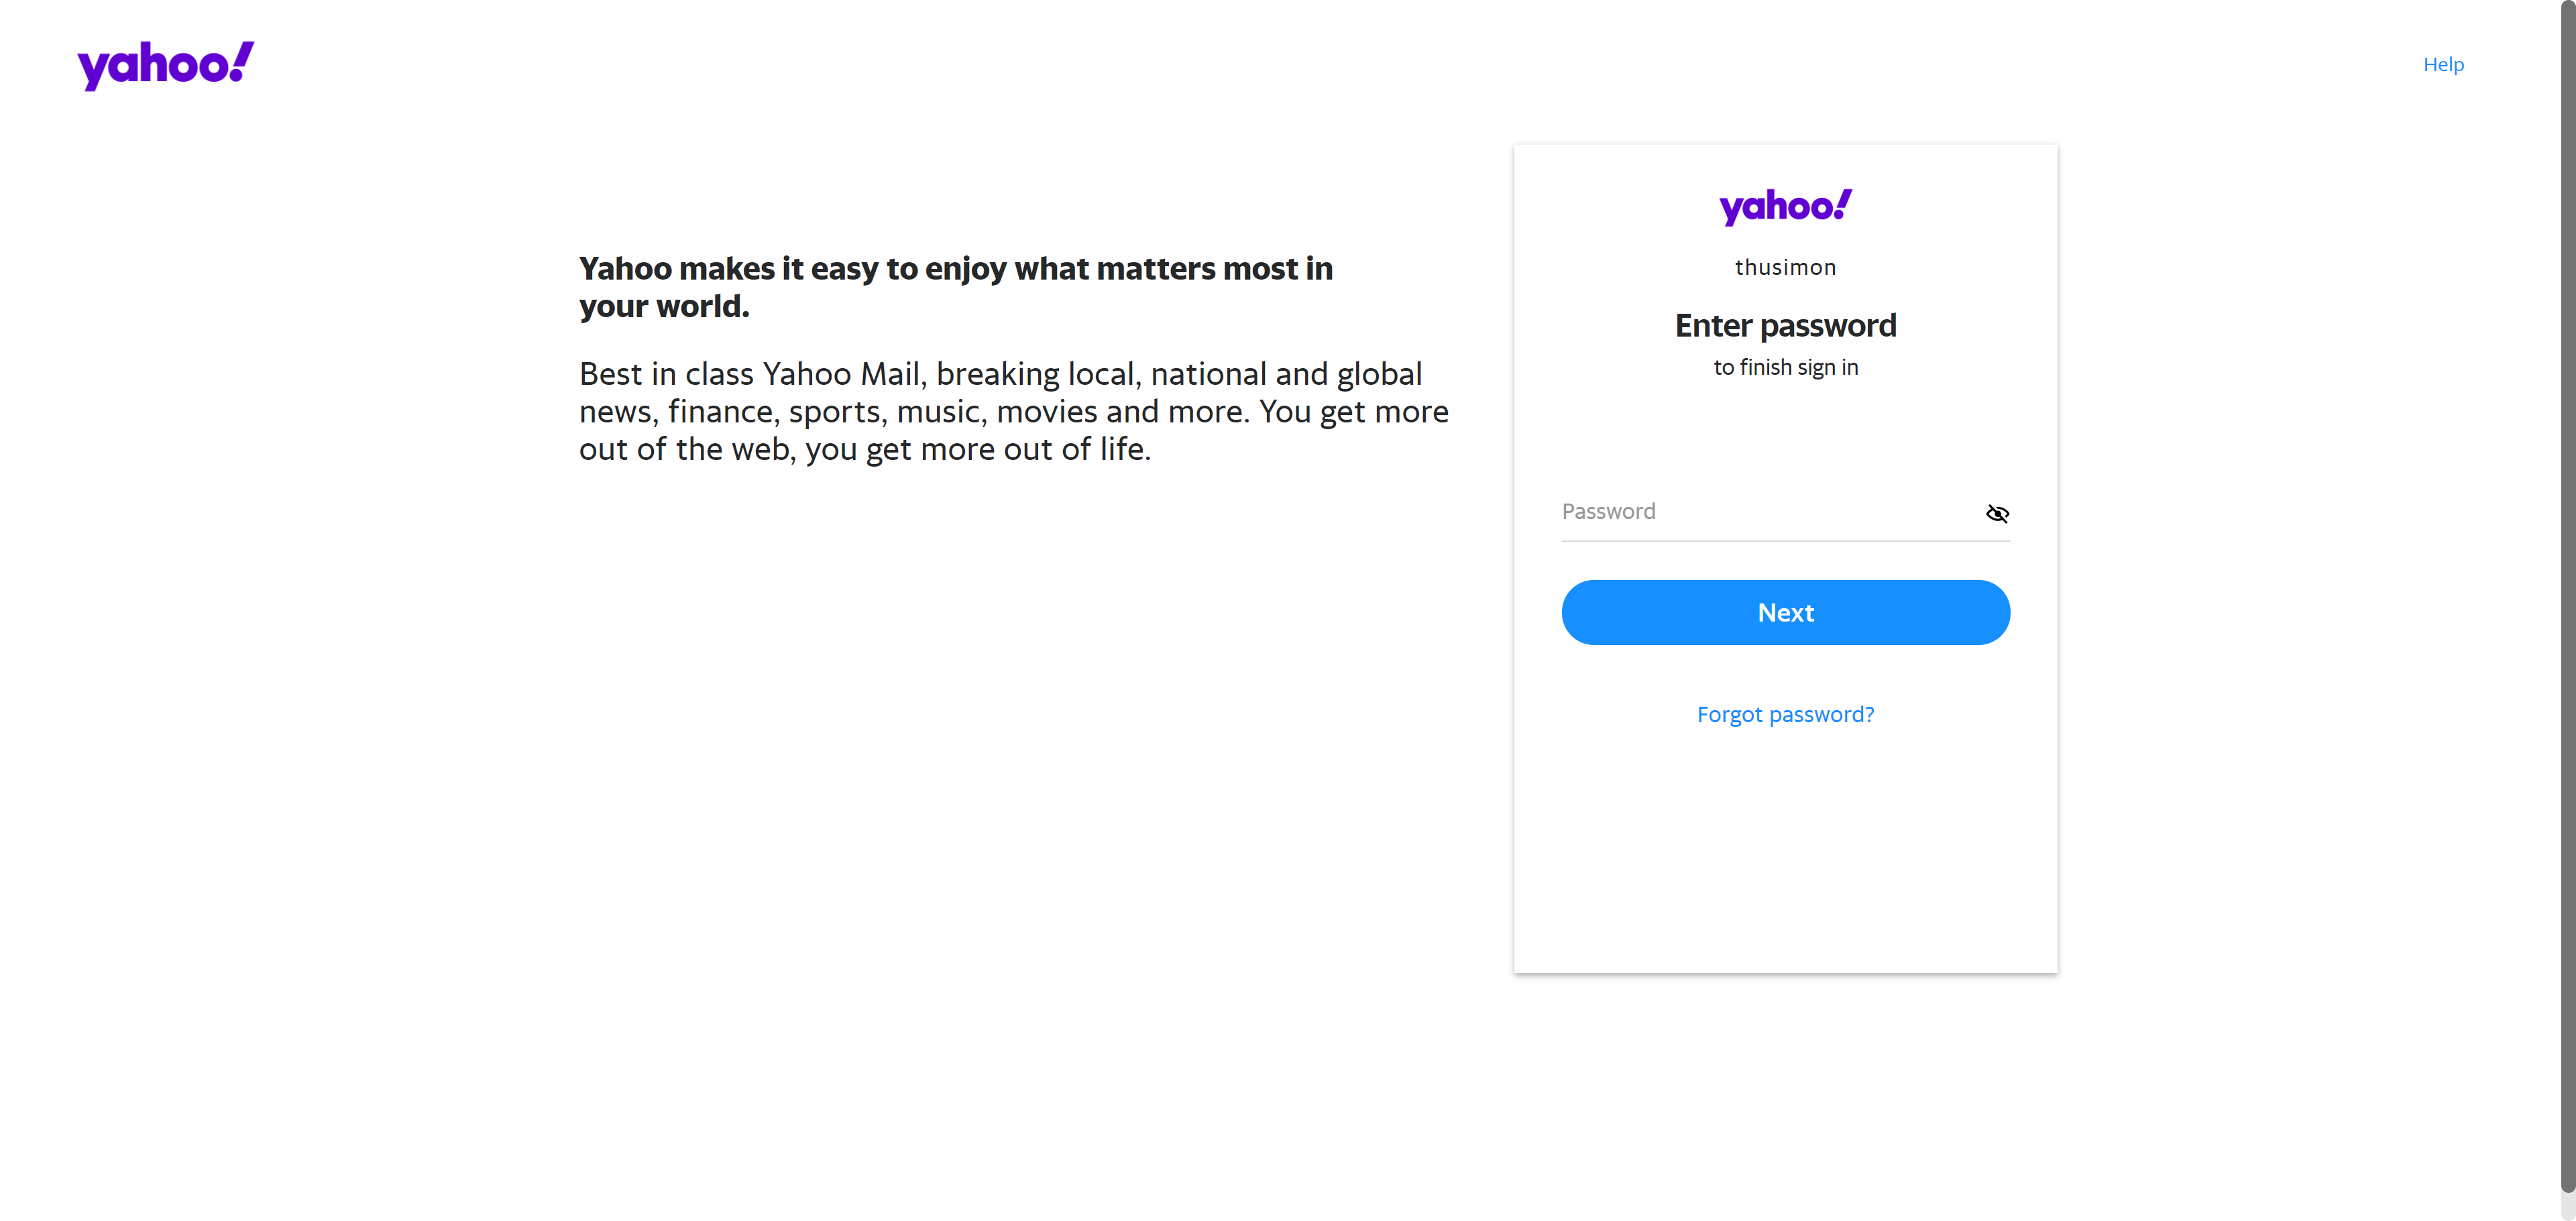login_button: (1562, 580, 2011, 646)
login_form: (1552, 481, 2024, 656)
